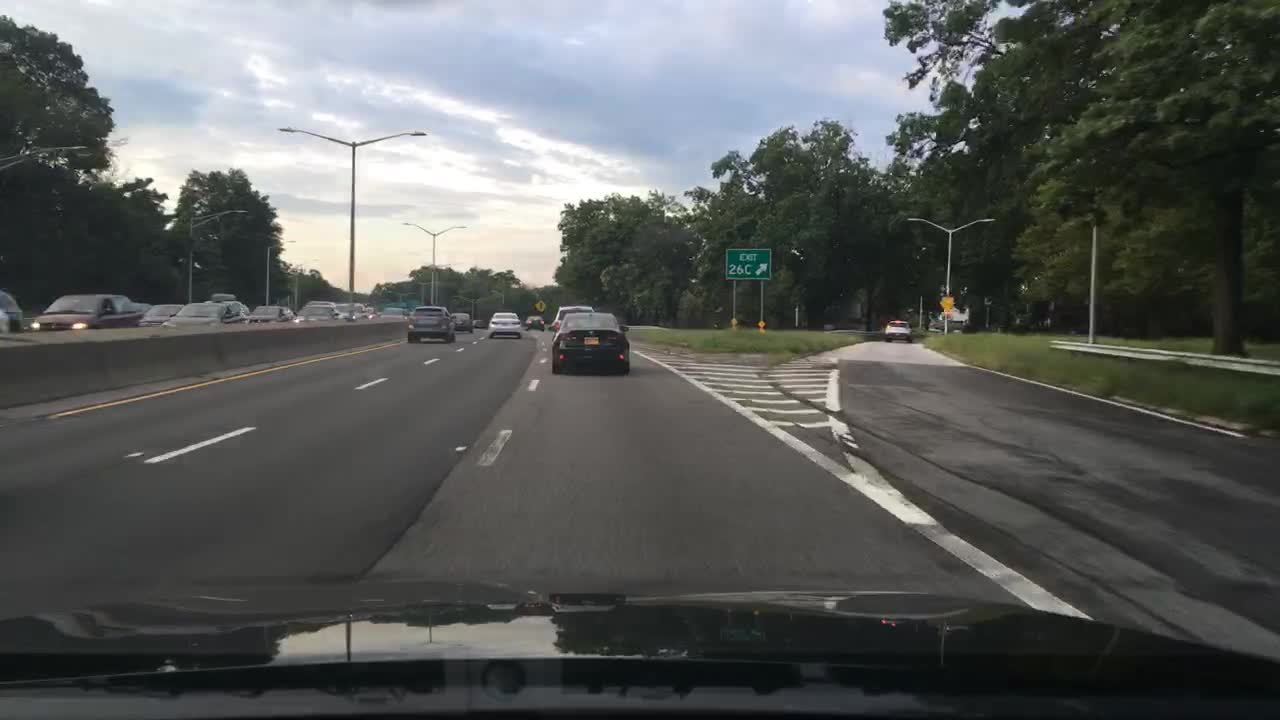car: (549, 313, 630, 379), (28, 291, 137, 331), (166, 297, 248, 330), (402, 302, 454, 346), (0, 289, 27, 339), (483, 311, 524, 341), (127, 304, 177, 328), (551, 308, 593, 328), (248, 304, 292, 322), (292, 304, 336, 322), (885, 319, 912, 346), (336, 304, 369, 320), (454, 311, 474, 337), (377, 306, 410, 319), (131, 298, 149, 317), (525, 315, 542, 331), (472, 319, 487, 328)
traffic sign: (727, 247, 773, 282), (533, 300, 549, 313), (942, 298, 958, 311)
